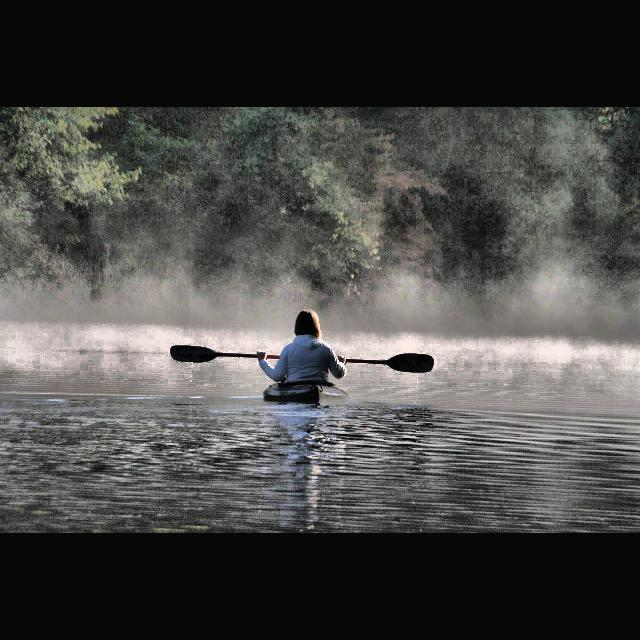kayak: (262, 381, 352, 409)
